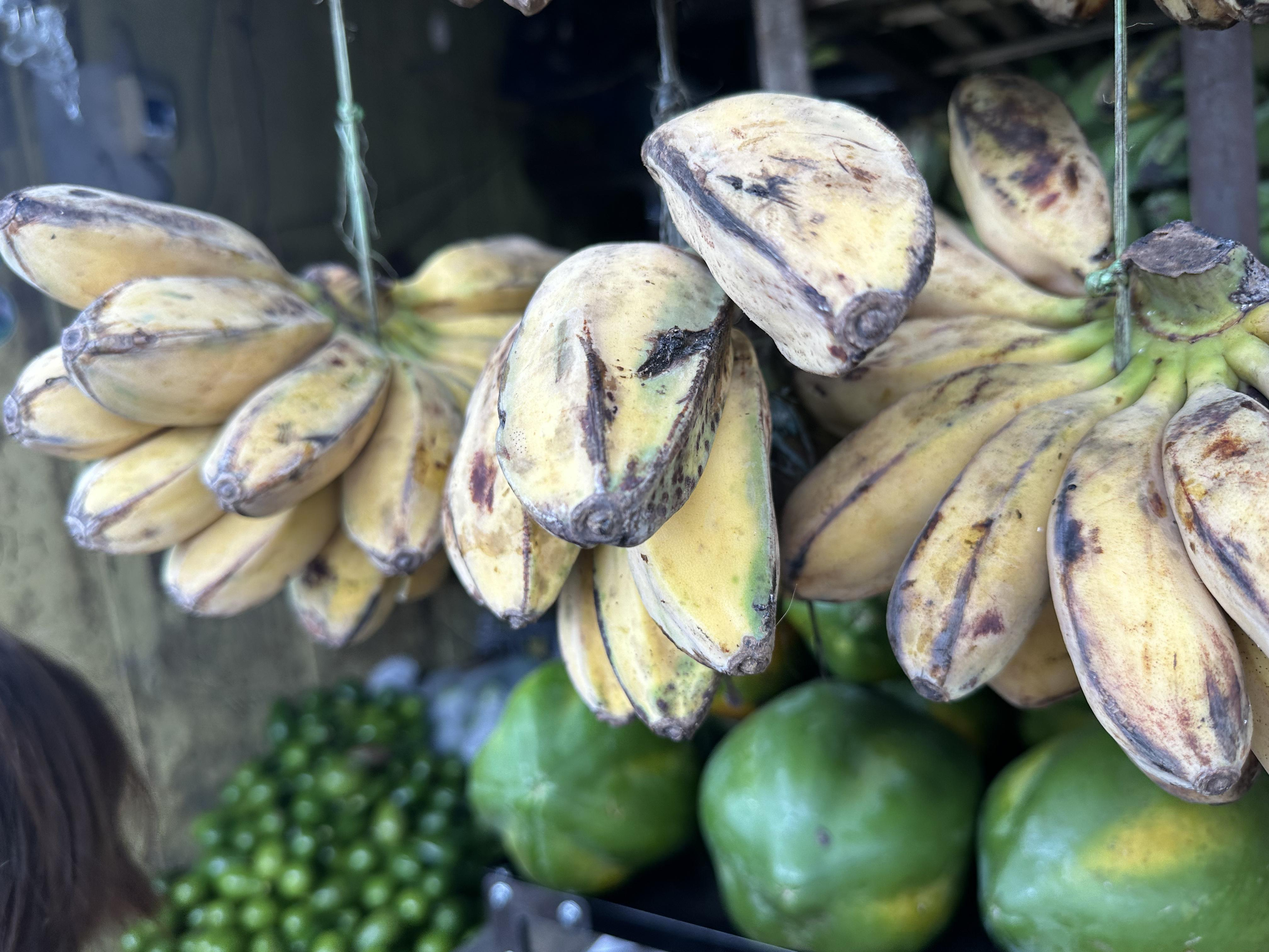ripe: (0, 184, 562, 646)
underripe: (781, 74, 1269, 802), (443, 93, 933, 740)
